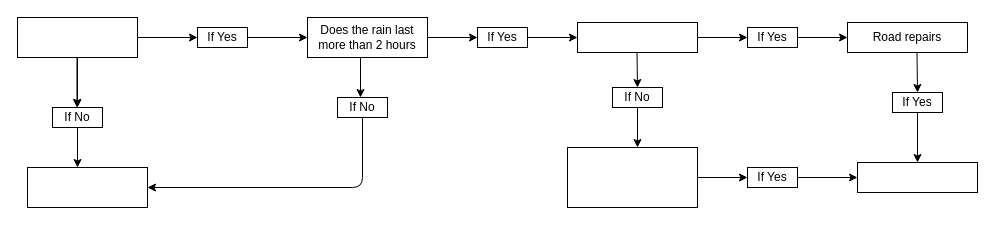
Image size: 995x226. Some labels were removed from this diagram. The shapes that lost their labels are listed below. From the top down, each one's centre as x and y in pixels, then its label:
the point at 77,37: Did it rain last night
the point at 637,37: is the hole in the road 5cm deep
the point at 87,187: cyclists or motorbikes are free to tread the streets with caution
the point at 632,177: residents are not allowed to use bicycles and motorbikes to cross
the point at 917,177: people use buses to work
